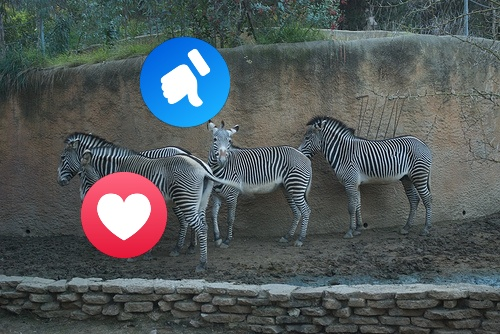like: (140, 37, 230, 127)
love: (81, 172, 167, 258)
